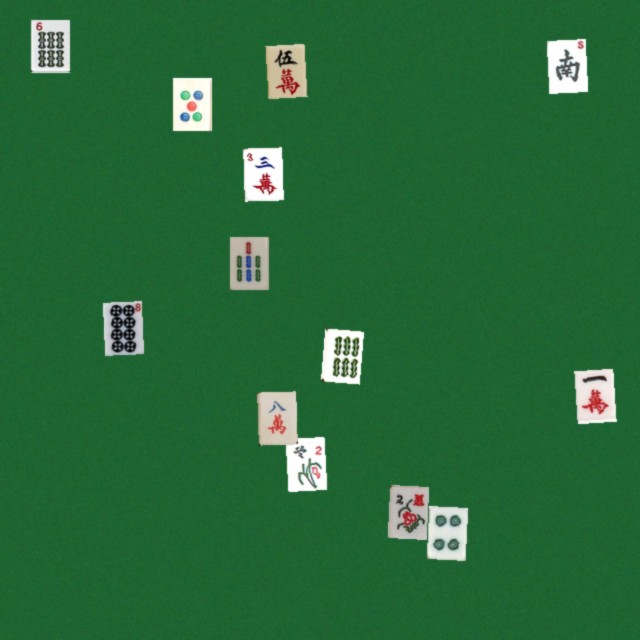tile: (320, 328, 359, 381), (243, 147, 282, 200), (285, 436, 324, 489), (426, 506, 465, 559), (172, 77, 211, 130), (546, 39, 585, 92), (265, 43, 304, 96), (387, 485, 426, 538), (257, 391, 296, 444), (574, 368, 613, 421), (102, 301, 141, 354), (229, 236, 268, 289), (30, 19, 69, 72)
